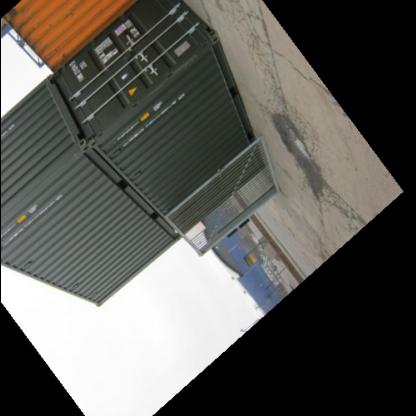Damage: (150, 59, 195, 85)
